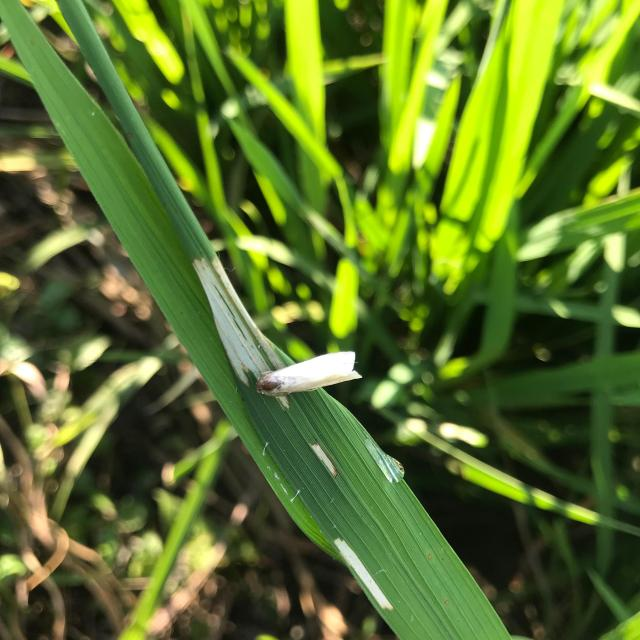wereng pada daun padi: (246, 345, 367, 415)
